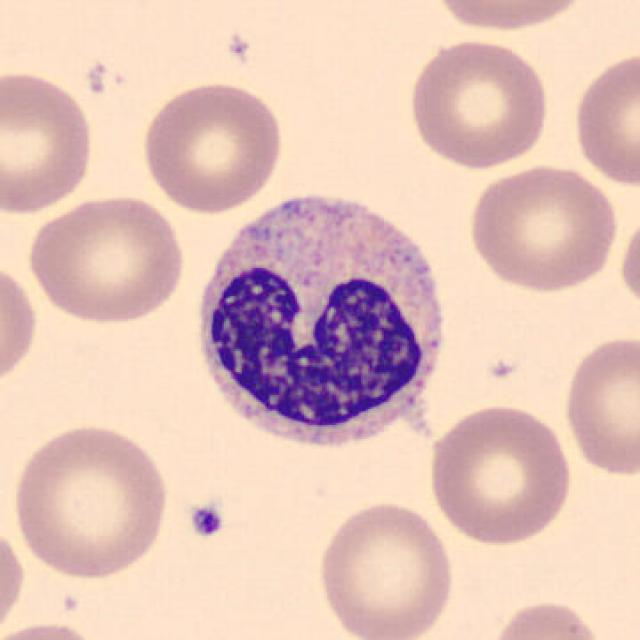Neutrophil: (183, 178, 459, 464)
Platelets: (185, 499, 227, 541)
RBC: (9, 419, 172, 582), (423, 400, 576, 547), (25, 190, 190, 326), (462, 160, 622, 294), (313, 497, 459, 640), (139, 78, 286, 215), (404, 35, 551, 171), (0, 65, 98, 219), (560, 332, 638, 479), (569, 46, 638, 190), (426, 0, 593, 35), (0, 256, 41, 395), (484, 596, 608, 640), (0, 521, 28, 638), (615, 204, 640, 321), (0, 617, 108, 640)
